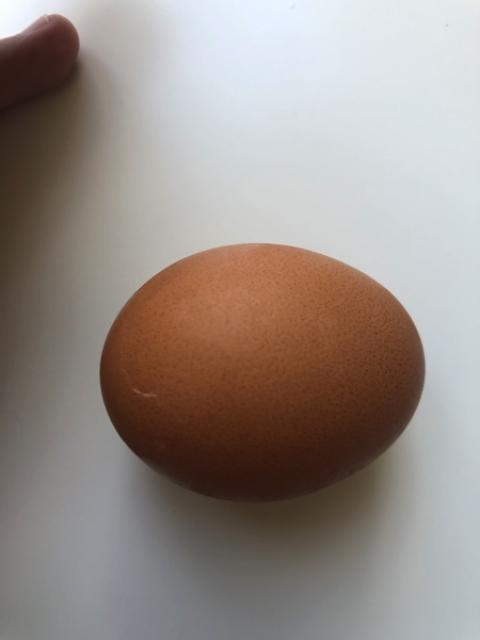Roto: (98, 240, 426, 503)
